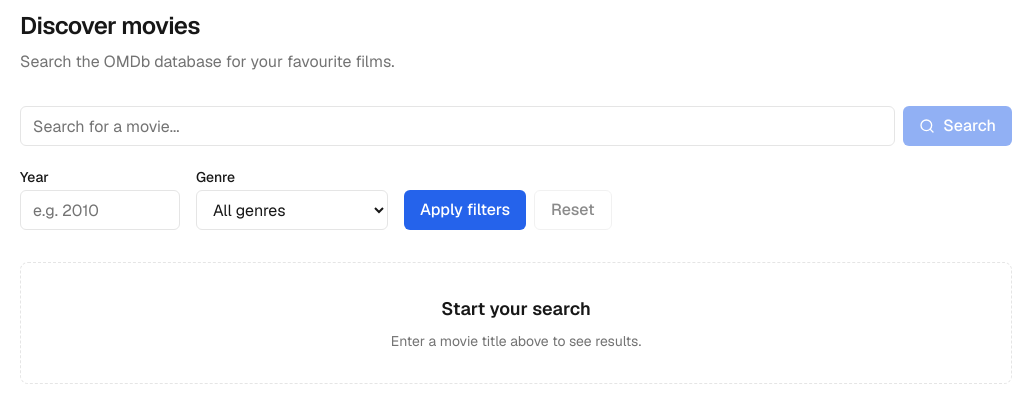
it: HomePage › displays an error message when the search fails
Type "Inception" into the search field with placeholder "Search for a movie...". click: (458, 126)
box: [20,106,895,146]
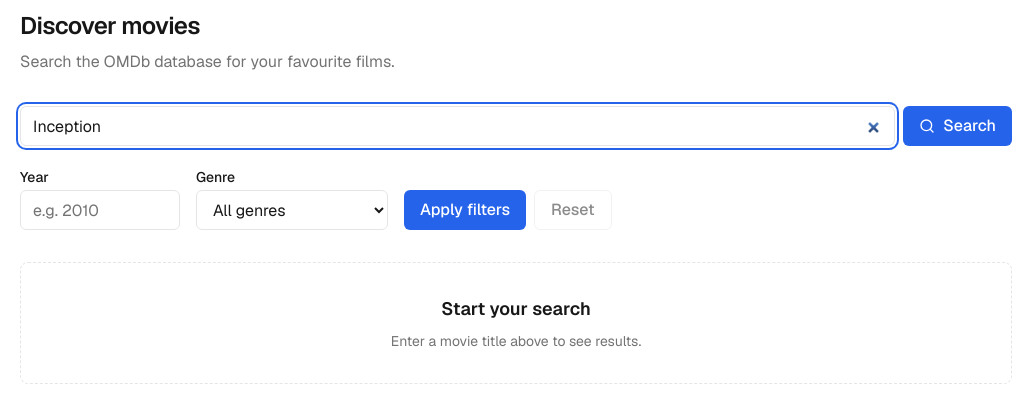
Click the button "Search". click: (958, 126)
box: [903,106,1012,146]
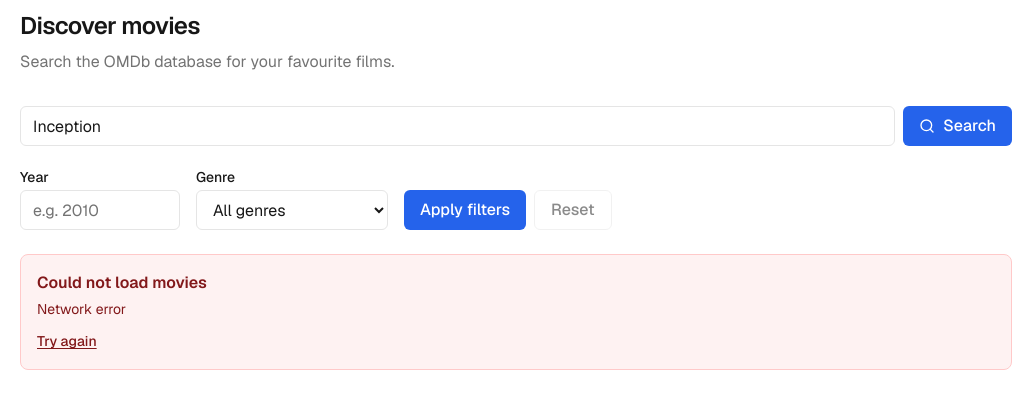
Result: the message "Could not load movies Network error Try again" is shown at [20,254,1012,370]
Result: the text "Network error" is shown at [37,300,126,318]
